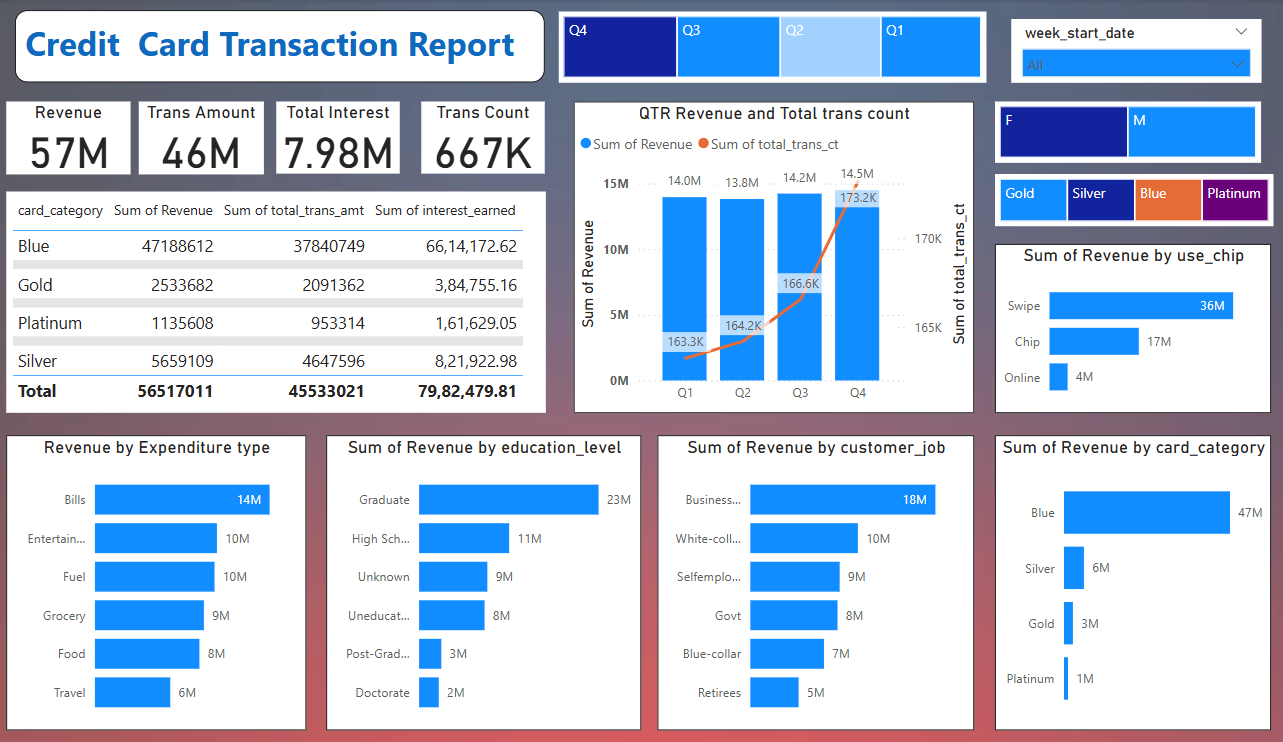

Layout of this report page (visuals, bound fields, positions):
{"tool":"powerbi","page":{"name":"Page 2","canvas":[1280,720],"ordinal":1},"visuals":[{"type":"textbox","box":[19.3,10.9,511.5,53.1],"z":0},{"type":"lineStackedColumnComboChart","title":"QTR Revenue and Total trans count","fields":{"Category":["public cc_detail.qtr"],"Y":["Sum(public cc_detail.Revenue)"],"Y2":["Sum(public cc_detail.total_trans_ct)"]},"box":[558.6,98.9,354.7,300.4],"z":1000},{"type":"barChart","title":"Revenue by Expenditure type","fields":{"Y":["Sum(public cc_detail.Revenue)"],"Category":["public cc_detail.exp_type"]},"box":[10.9,421,289.5,284.7],"z":2000},{"type":"barChart","fields":{"Y":["Sum(public cc_detail.Revenue)"],"Category":["public cust_detail.education_level"]},"box":[319.7,421,304,284.7],"z":3000},{"type":"barChart","fields":{"Category":["public cust_detail.customer_job"],"Y":["Sum(public cc_detail.Revenue)"]},"box":[639.4,421,317.3,284.7],"z":4000},{"type":"barChart","fields":{"Y":["Sum(public cc_detail.Revenue)"],"Category":["public cc_detail.card_category"]},"box":[976,421,255.8,284.7],"z":5000},{"type":"barChart","fields":{"Y":["Sum(public cc_detail.Revenue)"],"Category":["public cc_detail.use_chip"]},"box":[976,236.5,255.8,162.9],"z":6000},{"type":"tableEx","fields":{"Values":["public cc_detail.card_category","Sum(public cc_detail.Revenue)","Sum(public cc_detail.total_trans_amt)","Sum(public cc_detail.interest_earned)"]},"box":[10.9,213.5,521.2,185.8],"z":7000},{"type":"card","title":"Revenue","fields":{"Values":["Sum(public cc_detail.Revenue)"]},"box":[10.9,98.9,120,70],"z":8000},{"type":"card","title":"Trans Amount","fields":{"Values":["Sum(public cc_detail.total_trans_amt)"]},"box":[138.7,98.9,121,70],"z":9000},{"type":"card","title":"Total Interest","fields":{"Values":["Sum(public cc_detail.interest_earned)"]},"box":[271.4,98.9,119.4,70],"z":10000},{"type":"card","title":"Trans Count","fields":{"Values":["Sum(public cc_detail.total_trans_ct)"]},"box":[411.4,98.9,119.4,70],"z":11000},{"type":"slicer","fields":{"Values":["public cc_detail.week_start_date"]},"box":[1020.6,19.3,201.5,61.5],"z":11001},{"type":"treemap","fields":{"Group":["public cc_detail.qtr"],"Values":["Avg(public cc_detail.client_num)"]},"box":[544.1,12.1,456,77.2],"z":11002},{"type":"treemap","fields":{"Group":["public cust_detail.gender"],"Values":["Avg(public cc_detail.client_num)"]},"box":[1020.6,98.9,201.5,59.1],"z":11003},{"type":"treemap","fields":{"Values":["Avg(public cc_detail.client_num)"],"Group":["public cc_detail.card_category"]},"box":[956.7,168.9,277.5,50.7],"z":11004}]}

Visuals, with their boxes in screenshot pixels (x1, y1, x2, y2), scaled from the page's 1280x720 canvas onto the 1283x742 screenshot:
textbox: bbox=[19, 11, 532, 66]
"QTR Revenue and Total trans count" lineStackedColumnComboChart: bbox=[560, 102, 915, 412]
"Revenue by Expenditure type" barChart: bbox=[11, 434, 301, 727]
barChart - Sum(public cc_detail.Revenue) x public cust_detail.education_level: bbox=[320, 434, 625, 727]
barChart - public cust_detail.customer_job x Sum(public cc_detail.Revenue): bbox=[641, 434, 959, 727]
barChart - Sum(public cc_detail.Revenue) x public cc_detail.card_category: bbox=[978, 434, 1235, 727]
barChart - Sum(public cc_detail.Revenue) x public cc_detail.use_chip: bbox=[978, 244, 1235, 412]
tableEx - public cc_detail.card_category x Sum(public cc_detail.Revenue): bbox=[11, 220, 533, 412]
"Revenue" card: bbox=[11, 102, 131, 174]
"Trans Amount" card: bbox=[139, 102, 260, 174]
"Total Interest" card: bbox=[272, 102, 392, 174]
"Trans Count" card: bbox=[412, 102, 532, 174]
slicer - public cc_detail.week_start_date: bbox=[1023, 20, 1225, 83]
treemap - public cc_detail.qtr x Avg(public cc_detail.client_num): bbox=[545, 12, 1002, 92]
treemap - public cust_detail.gender x Avg(public cc_detail.client_num): bbox=[1023, 102, 1225, 163]
treemap - Avg(public cc_detail.client_num) x public cc_detail.card_category: bbox=[959, 174, 1237, 226]
